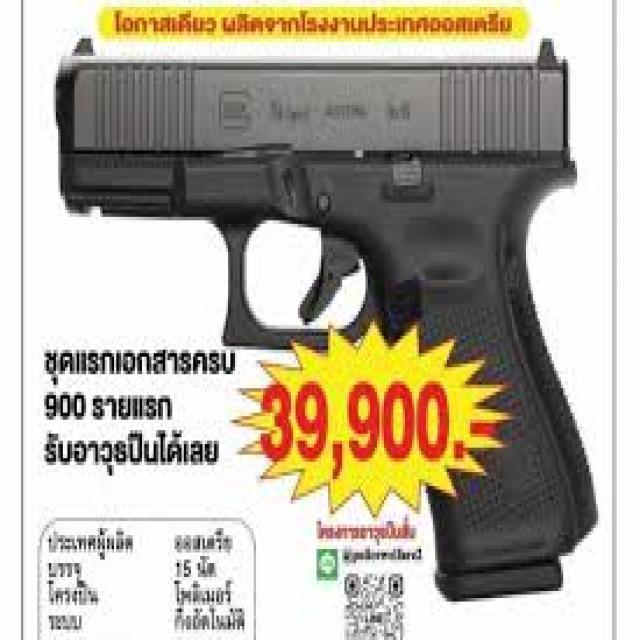semi automatic: (43, 35, 602, 608)
